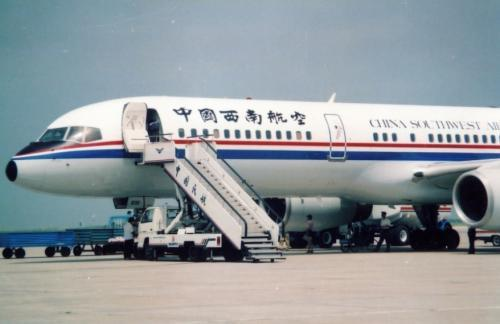airplane: (6, 96, 500, 251)
